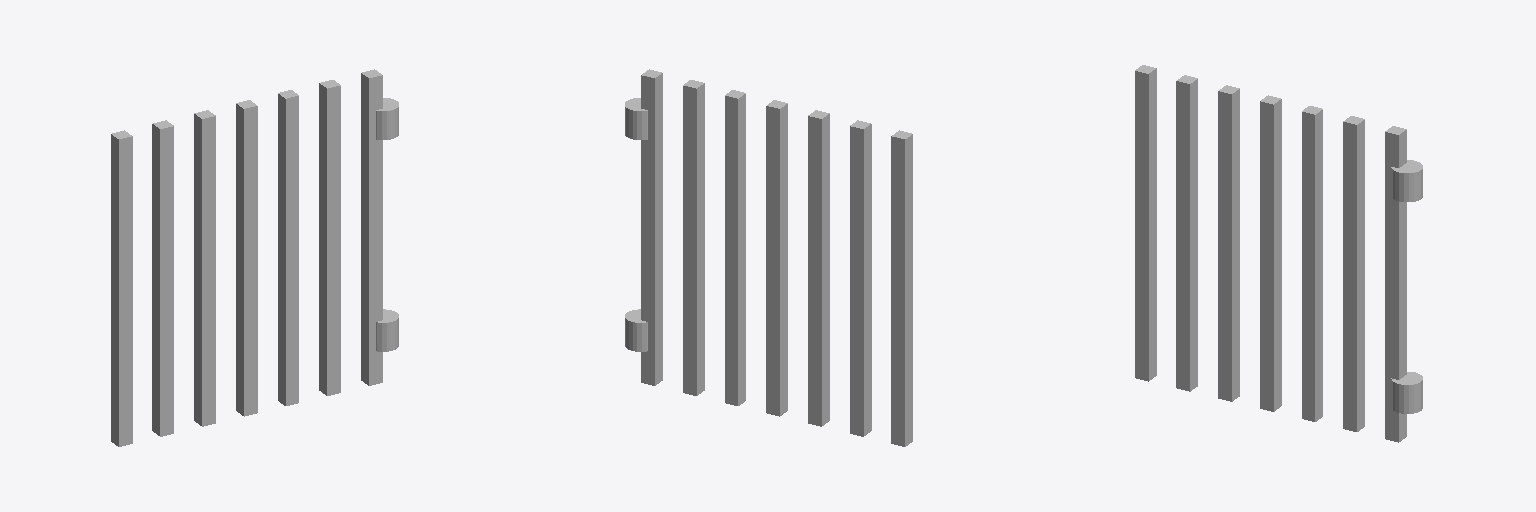
File: door.obj
3 renders of one model, left to right at view 1: azimuth 30°, elevation 25°; view 2: azimuth 150°, elevation 25°; view 3: azimuth 330°, elevation 25°, orthographic.
Visible parts, largest first — view 1: bar1 bar5, bar1 bar7, bar1 bar2, bar1 bar6, bar1 bar4, bar1 bar3, bar1, bar1 hinge2, bar1 hinge1; view 2: bar1 bar5, bar1 bar7, bar1 bar2, bar1 bar6, bar1 bar4, bar1 bar3, bar1, bar1 hinge2, bar1 hinge1; view 3: bar1 bar5, bar1 bar7, bar1 bar2, bar1 bar6, bar1 bar4, bar1 bar3, bar1, bar1 hinge1, bar1 hinge2.
Boxes of the visible parts, x1=… form: bar1 bar5: x1=194, y1=110, x2=215, y2=426; bar1 bar7: x1=111, y1=130, x2=132, y2=446; bar1 bar2: x1=319, y1=80, x2=340, y2=395; bar1 bar6: x1=152, y1=120, x2=173, y2=436; bar1 bar4: x1=236, y1=100, x2=257, y2=416; bar1 bar3: x1=278, y1=90, x2=298, y2=405; bar1: x1=361, y1=69, x2=382, y2=385; bar1 hinge2: x1=376, y1=309, x2=398, y2=351; bar1 hinge1: x1=376, y1=98, x2=398, y2=139; bar1 bar5: x1=808, y1=110, x2=829, y2=426; bar1 bar7: x1=891, y1=130, x2=912, y2=446; bar1 bar2: x1=683, y1=80, x2=704, y2=395; bar1 bar6: x1=850, y1=120, x2=871, y2=436; bar1 bar4: x1=766, y1=100, x2=787, y2=416; bar1 bar3: x1=725, y1=90, x2=745, y2=405; bar1: x1=641, y1=69, x2=662, y2=385; bar1 hinge2: x1=625, y1=309, x2=647, y2=351; bar1 hinge1: x1=625, y1=98, x2=647, y2=139; bar1 bar5: x1=1218, y1=85, x2=1239, y2=401; bar1 bar7: x1=1135, y1=65, x2=1156, y2=381; bar1 bar2: x1=1343, y1=116, x2=1364, y2=431; bar1 bar6: x1=1176, y1=75, x2=1197, y2=391; bar1 bar4: x1=1260, y1=95, x2=1281, y2=411; bar1 bar3: x1=1302, y1=106, x2=1322, y2=421; bar1: x1=1385, y1=126, x2=1406, y2=442; bar1 hinge1: x1=1391, y1=160, x2=1422, y2=201; bar1 hinge2: x1=1391, y1=372, x2=1422, y2=413.
Bounding box in the file's own units: 20.32 × 21.14 × 2.